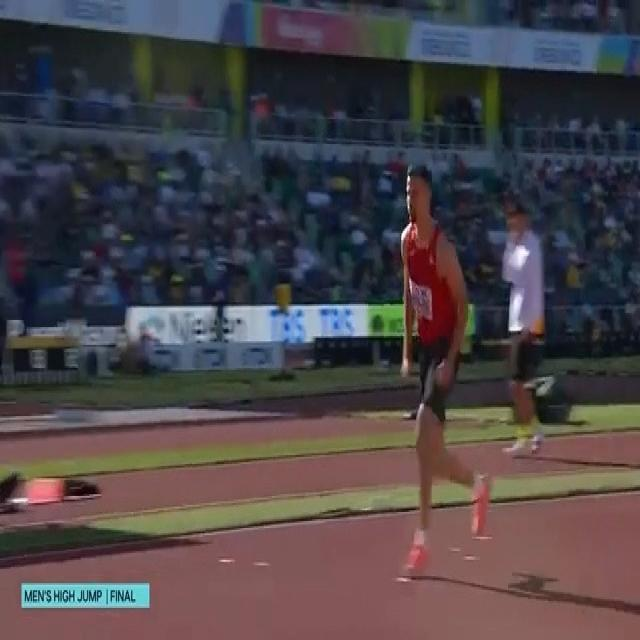run: (393, 168, 491, 585)
